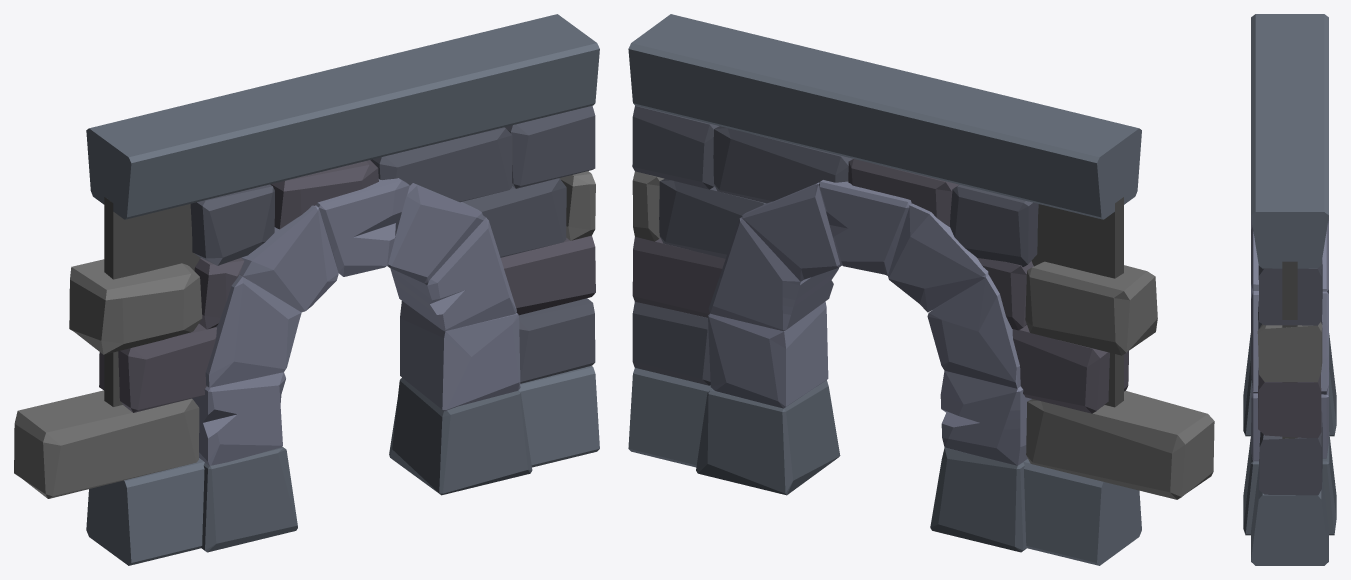
Rendered from Brick_Wall_Door_Left.fbx.
3 views of the same model, side by side, from view 1: azimuth 30°, elevation 25°; view 2: azimuth 150°, elevation 25°; view 3: azimuth 270°, elevation 25° (orthographic). The views are drawn at different scales.
Parts seen in each view (by area): view 1: Muro_Puerta_Ladrillo_Izq; view 2: Muro_Puerta_Ladrillo_Izq; view 3: Muro_Puerta_Ladrillo_Izq.
Part boxes in pixels (x1,y1,x2,y2): Muro_Puerta_Ladrillo_Izq: (14, 14, 599, 565); Muro_Puerta_Ladrillo_Izq: (628, 14, 1214, 565); Muro_Puerta_Ladrillo_Izq: (1243, 14, 1336, 565).
Size of the model in its own units: 704 by 500 by 119.
